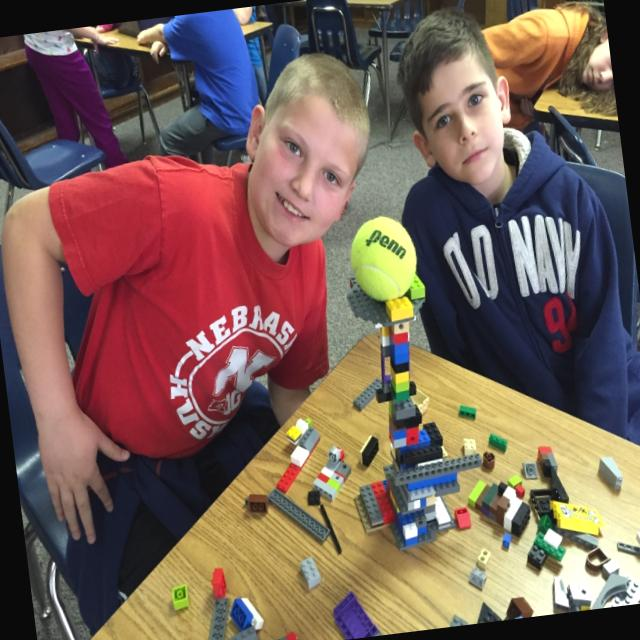Tennis Ball: (342, 207, 428, 310)
